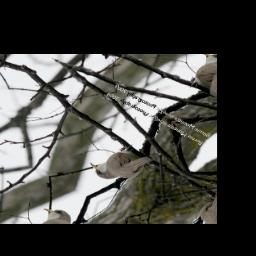Cuckoo: (84, 137, 157, 191)
